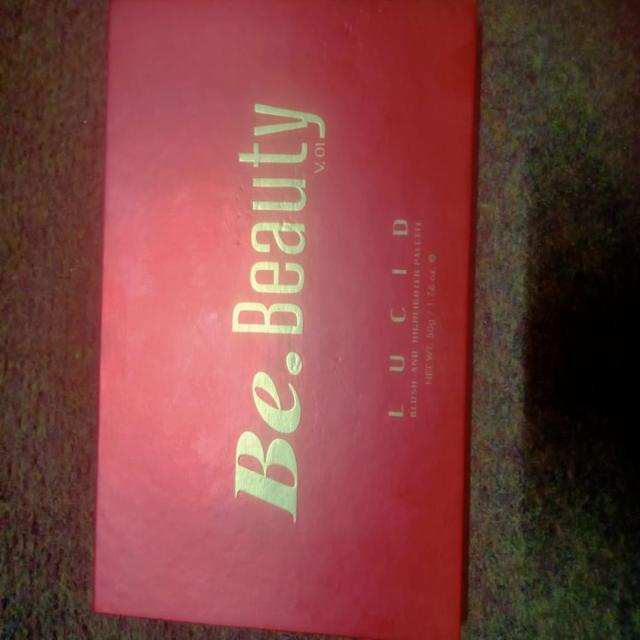makeup: (85, 0, 484, 640)
